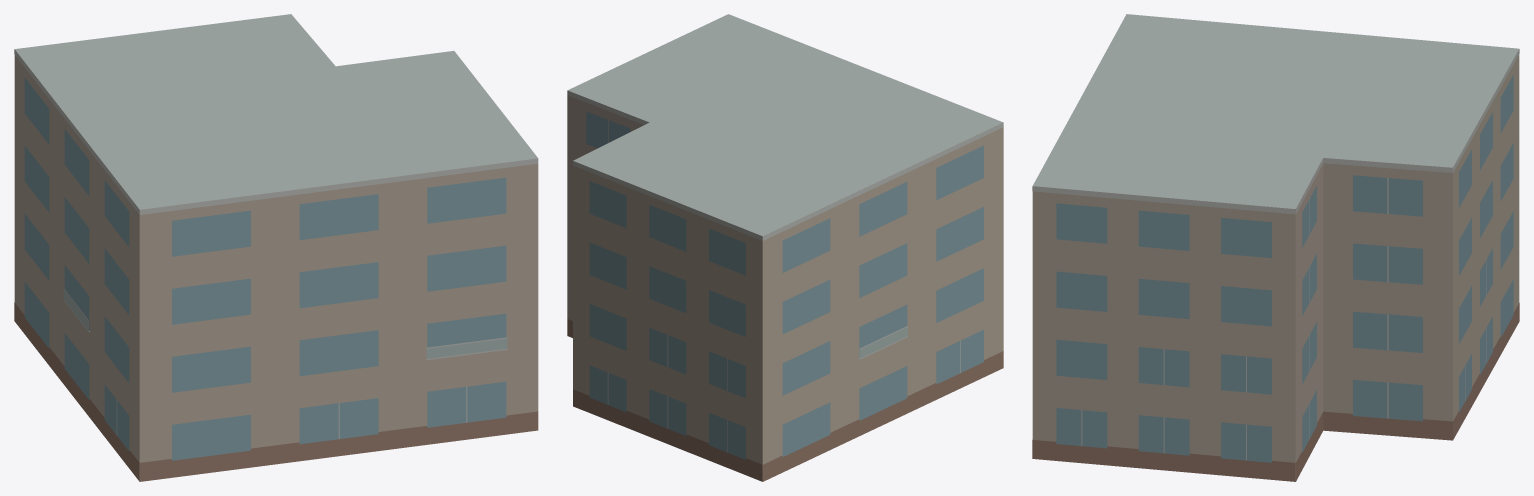
Rendered from survey-upis-32801208.glb.
3 renders of one model, left to right at view 1: azimuth 30°, elevation 25°; view 2: azimuth 150°, elevation 25°; view 3: azimuth 270°, elevation 25°, orthographic. The views are drawn at different scales.
Visible parts, largest first — view 1: survey-upis-32801208.tmp; view 2: survey-upis-32801208.tmp; view 3: survey-upis-32801208.tmp.
Boxes of the visible parts, left/top/right/bottom form: survey-upis-32801208.tmp: left=14, top=14, right=538, bottom=481; survey-upis-32801208.tmp: left=567, top=14, right=1003, bottom=481; survey-upis-32801208.tmp: left=1032, top=14, right=1519, bottom=481.
Size of the model in its own units: 19.5 by 12.7 by 20.56.
